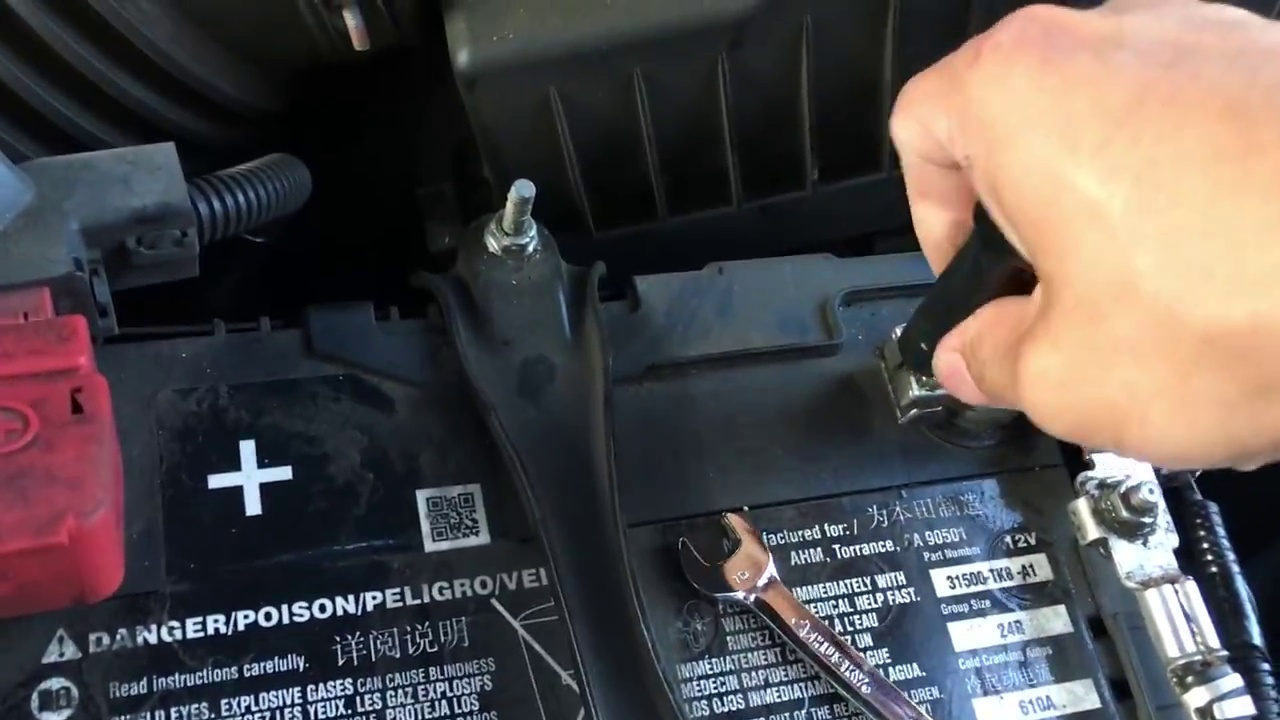battery: (1, 209, 1255, 720)
neg_touched: (865, 165, 1150, 470)
pos_connected: (1, 254, 171, 604)
